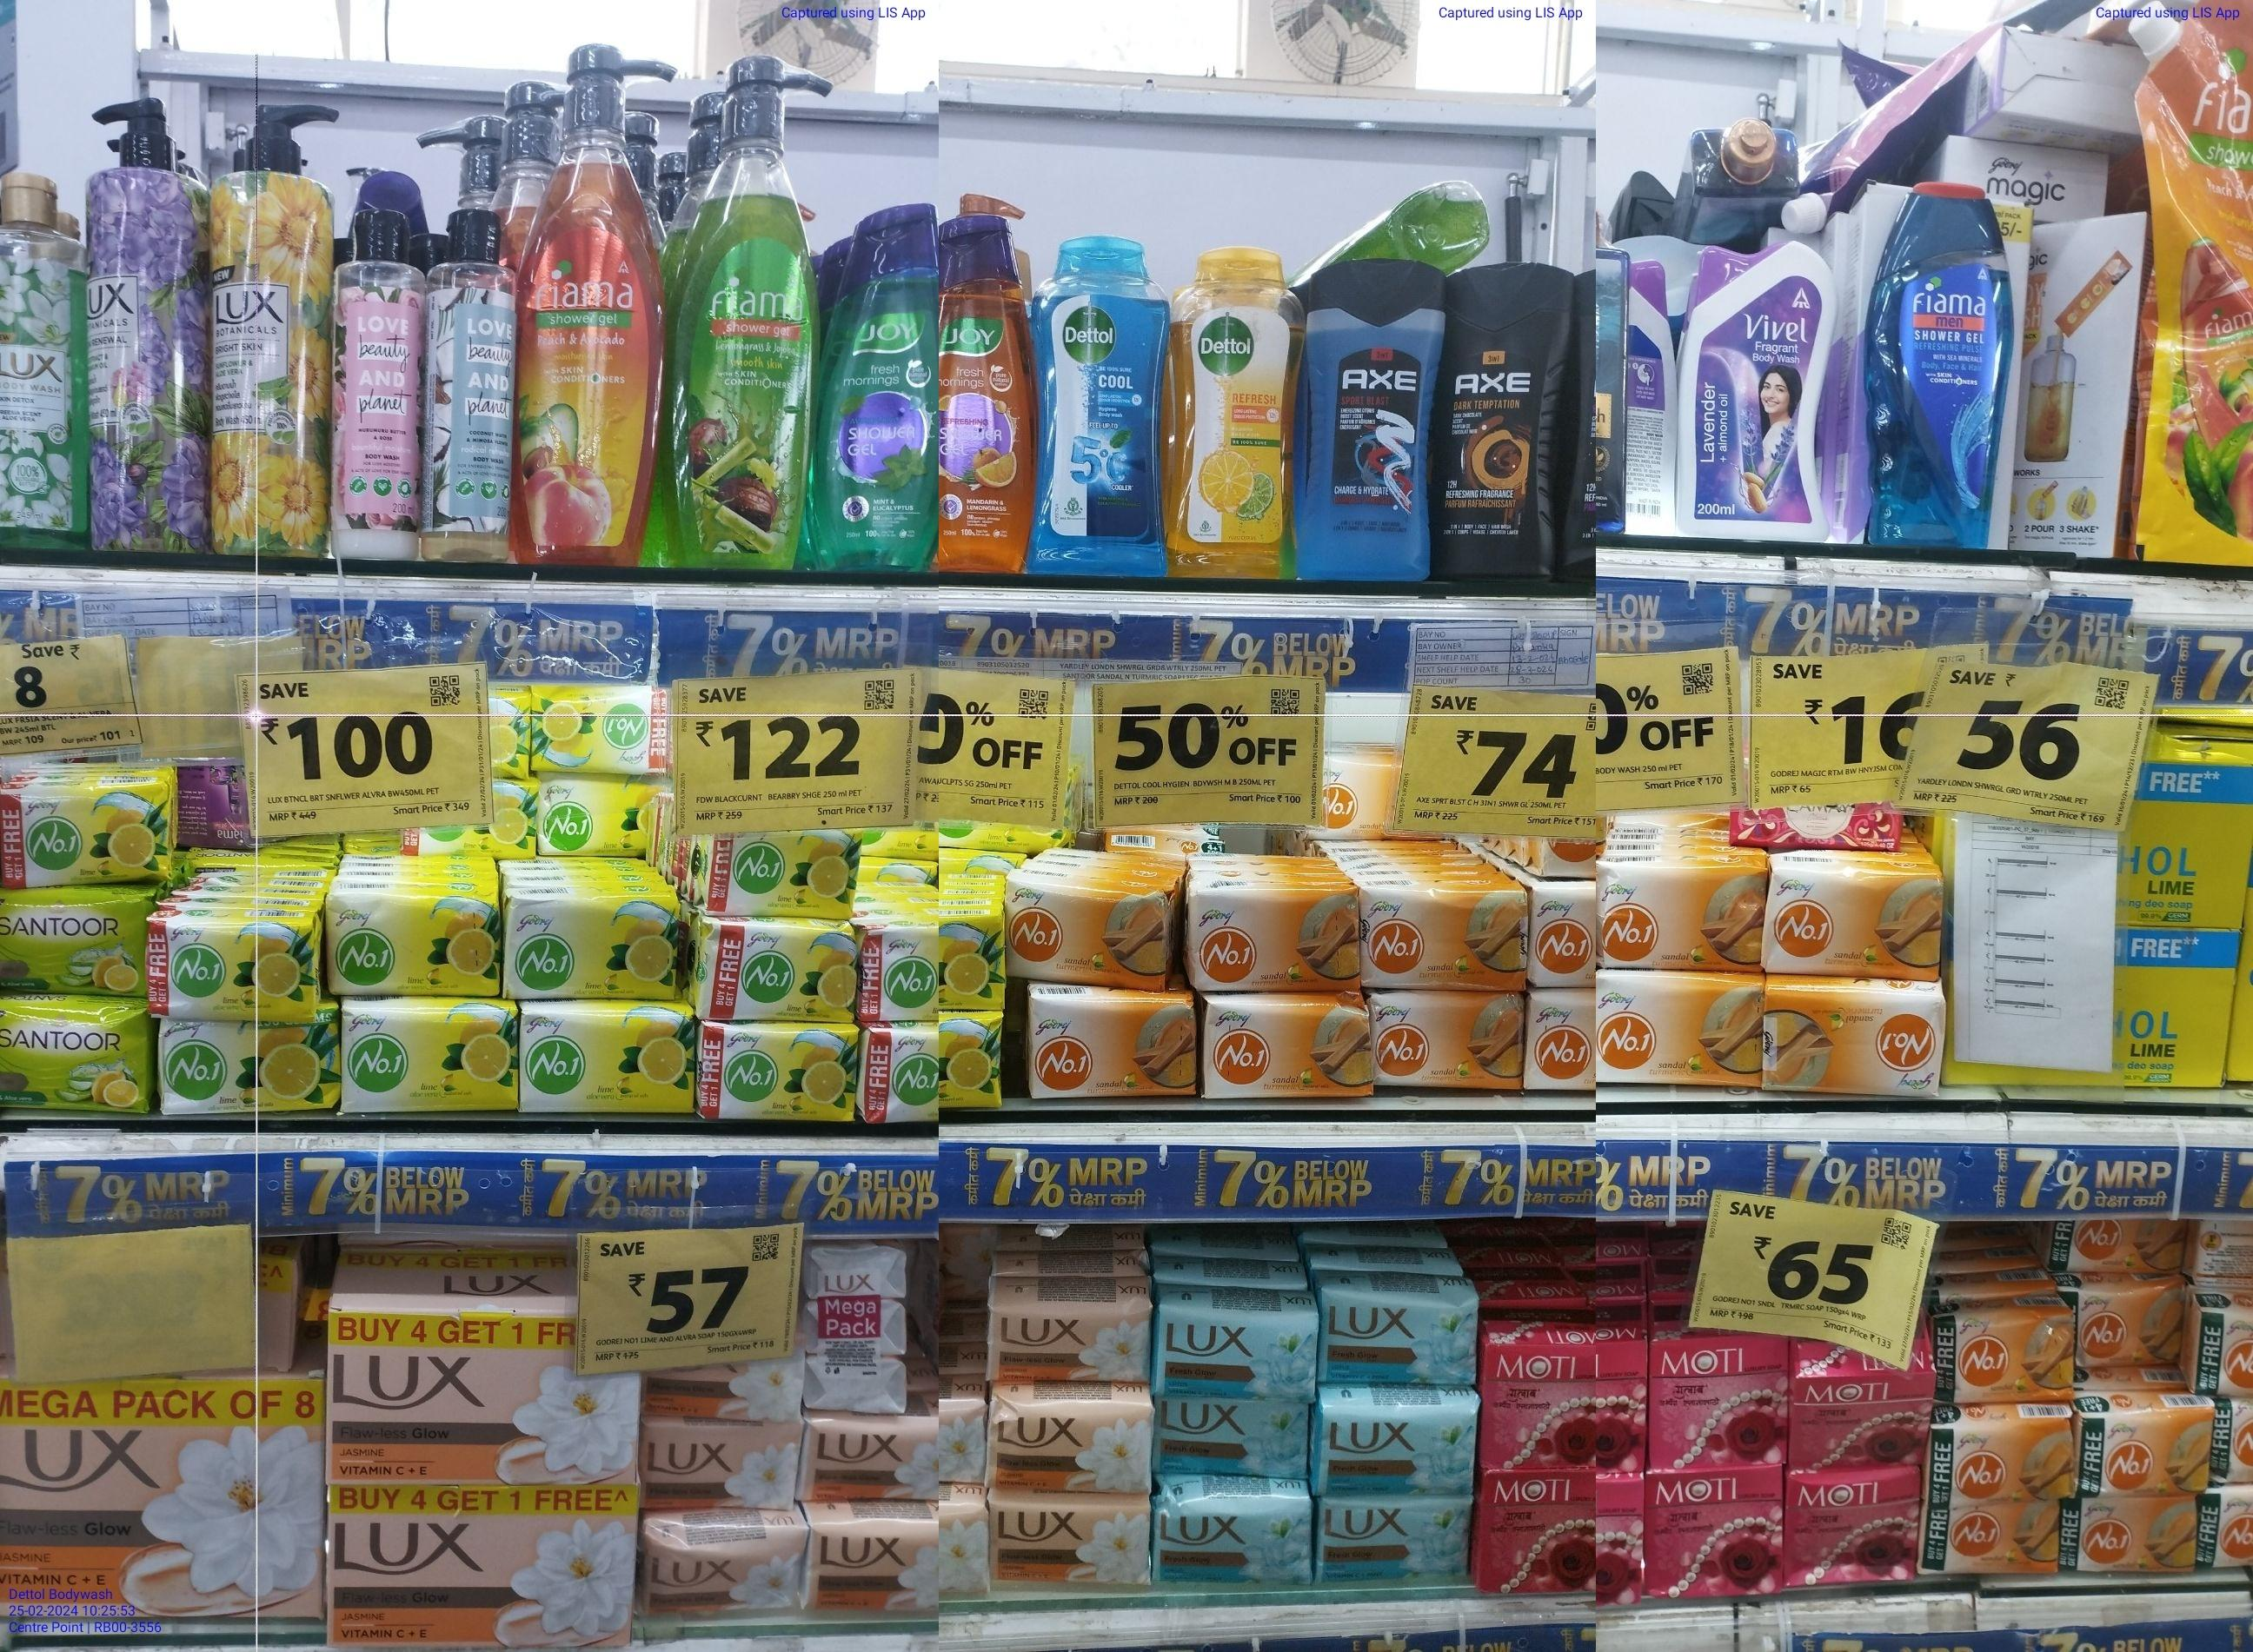Dettol_Bodywash_Cool: (1053, 236, 1167, 566)
Dettol_Bodywash_Refresh: (1177, 245, 1305, 579)
Joy_Shower_Gel_Mandarin_and_Lemongrass_250ML: (948, 212, 1039, 572)
Joy_Shower_Gel_Mint_and_Eucalyptus_250ML: (817, 205, 943, 566)
Lux_Body_Wash_Skin_Detox_Freesia_Scent_and_Alove_Vera_245ML: (0, 171, 80, 545)
